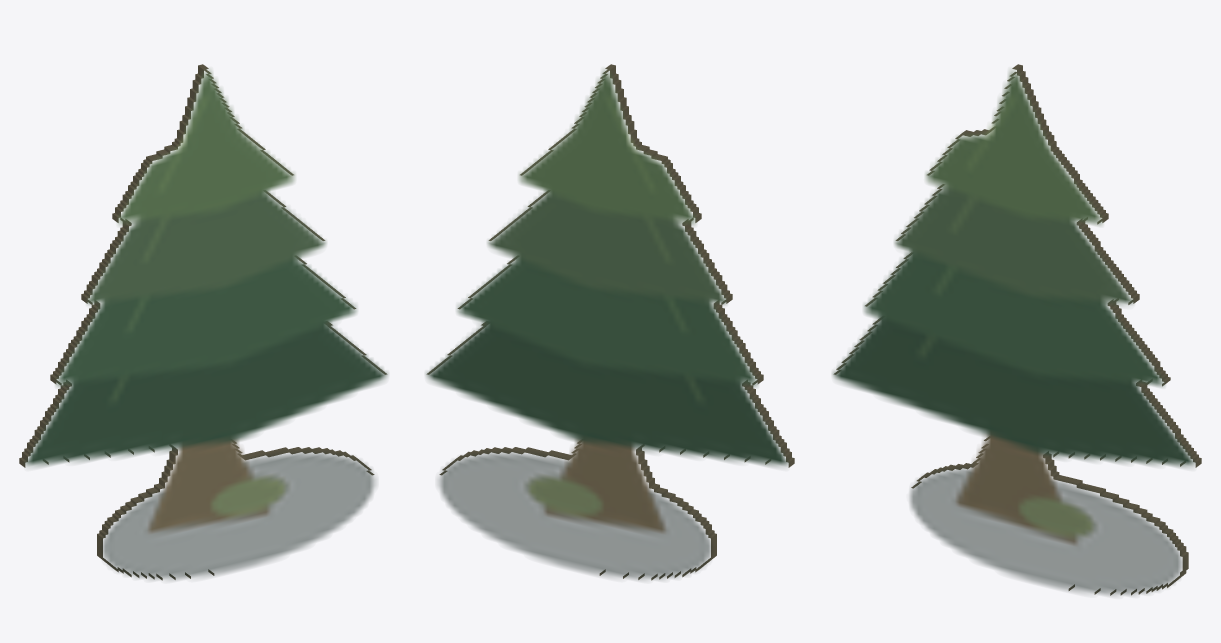
The model's file is LivingTree.glb.
3 views of the same model, side by side, from view 1: azimuth 30°, elevation 25°; view 2: azimuth 150°, elevation 25°; view 3: azimuth 330°, elevation 25° (orthographic).
Visible parts, largest first — view 1: Visual; view 2: Visual; view 3: Visual.
Boxes of the visible parts, <box> form: Visual: <box>19,64,388,580</box>; Visual: <box>425,64,794,580</box>; Visual: <box>832,64,1201,595</box>.
Bounding box in the file's own units: 2.8 × 3.73 × 0.08.
3 materials, 2 textured.
